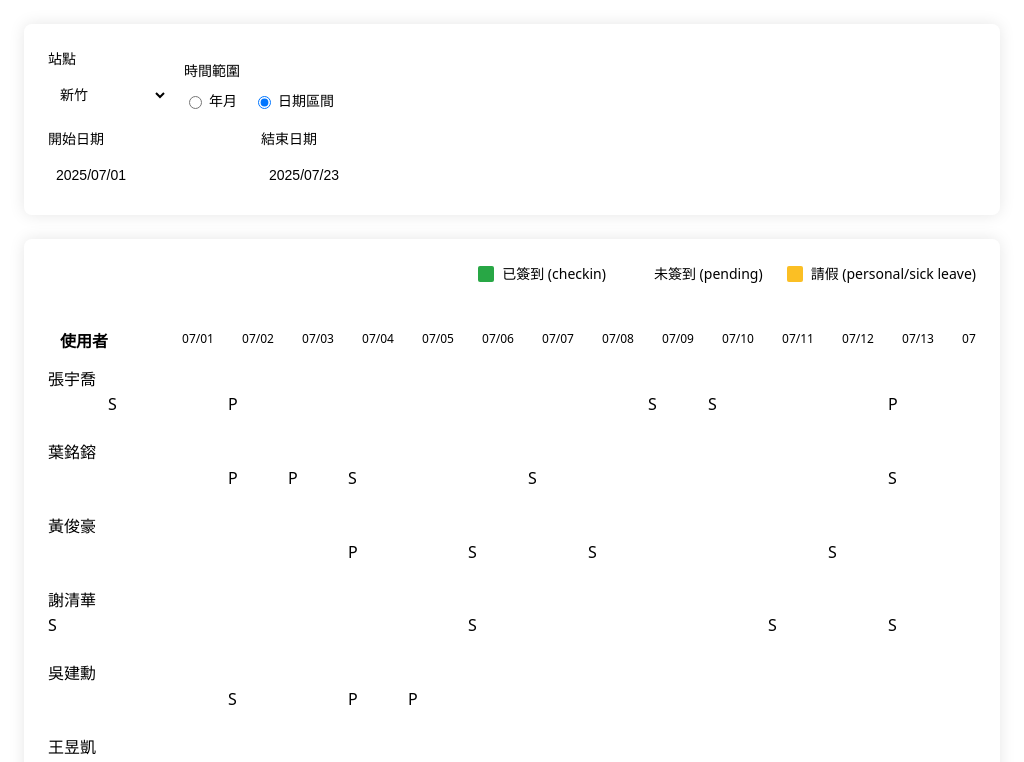
Test case: Summary › displays year and month inputs when month type is selected
Click the radio button showing "month".
click(196, 103)  # box [189,96,202,109]
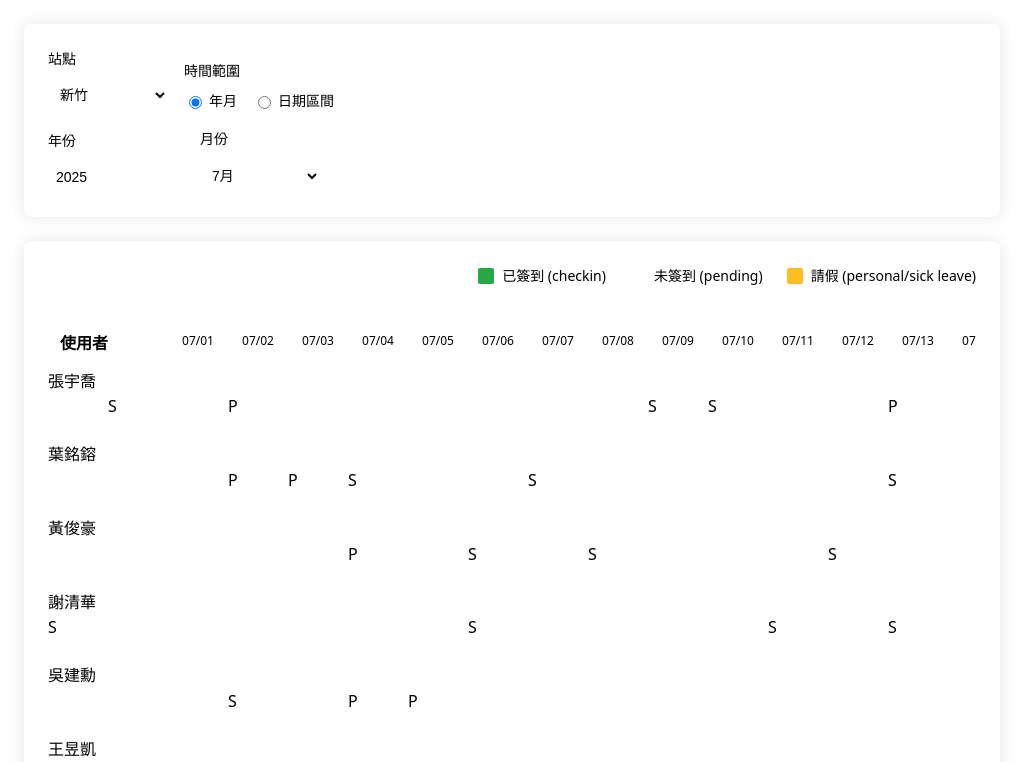
Expected: the text "年份" is shown, [48,131,76,150]
Expected: the text "月份" is shown, [200,129,228,148]
Expected: the dropdown showing "7月" below "月份" is shown, [200,159,320,193]
